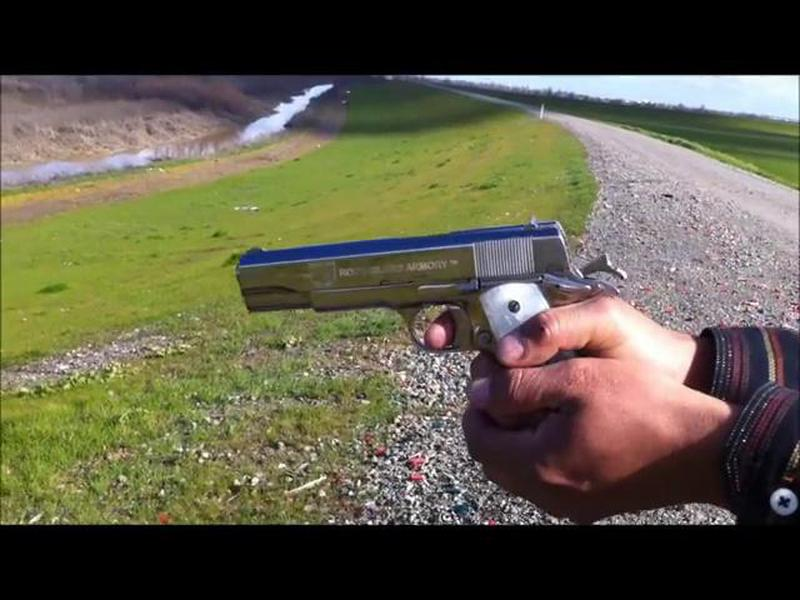Pistola: (232, 194, 668, 465)
